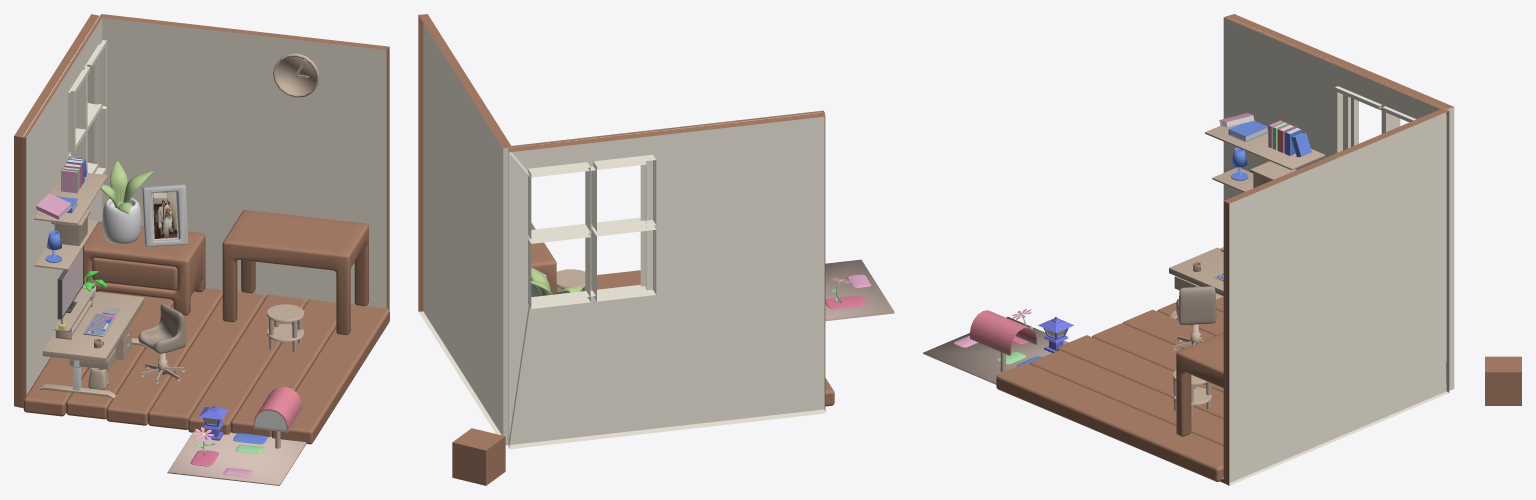
Rendered from gogo.glb.
The picture shows the model from 3 angles, left to right: view 1: azimuth 30°, elevation 25°; view 2: azimuth 150°, elevation 25°; view 3: azimuth 270°, elevation 25°; orthographic projection. The views are drawn at different scales.
Parts seen in each view (by area): view 1: Body, WoodFloor, Cube.009, Cube.010, Shelves, Desks, MiniFloor, Pic1, TableStuff, Mailbox, Clock, Chair (+6 smaller); view 2: Body, Cube, MiniFloor, WoodFloor, Cube.009, Desks.001; view 3: Body, WoodFloor, Shelves, Cube.009, MiniFloor, Mailbox, Cube, Desks, Chair, Desks.001, Lamp.
Boxes of the visible parts, box(x1,y1,x2,y2) form: Body: box(14, 14, 389, 407); WoodFloor: box(23, 288, 389, 444); Cube.009: box(222, 210, 368, 334); Cube.010: box(84, 221, 205, 315); Shelves: box(34, 157, 108, 270); Desks: box(38, 292, 146, 398); MiniFloor: box(167, 431, 306, 485); Pic1: box(142, 184, 188, 246); TableStuff: box(53, 271, 119, 339); Mailbox: box(253, 386, 302, 448); Clock: box(273, 53, 319, 97); Chair: box(138, 303, 185, 353); Body: box(418, 14, 825, 449); Cube: box(452, 428, 505, 485); MiniFloor: box(825, 259, 894, 321); WoodFloor: box(560, 270, 834, 406); Cube.009: box(531, 223, 556, 294); Desks.001: box(556, 269, 585, 291); Body: box(1220, 14, 1454, 485); WoodFloor: box(996, 298, 1223, 481); Shelves: box(1205, 113, 1325, 192); Cube.009: box(1176, 332, 1223, 436); MiniFloor: box(923, 317, 1068, 384); Mailbox: box(970, 310, 1036, 372); Cube: box(1485, 356, 1521, 405); Desks: box(1169, 247, 1223, 319); Chair: box(1176, 286, 1216, 324); Desks.001: box(1173, 370, 1211, 416); Lamp: box(1038, 317, 1073, 352).
Size of the model in its own units: 24.25 by 17.22 by 32.32.
36 materials, 1 textured.
